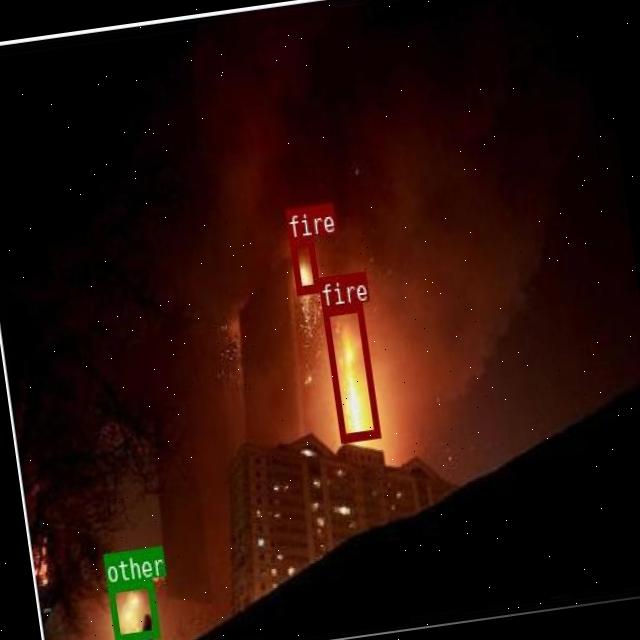fire: (321, 302, 380, 442), (288, 236, 320, 295)
